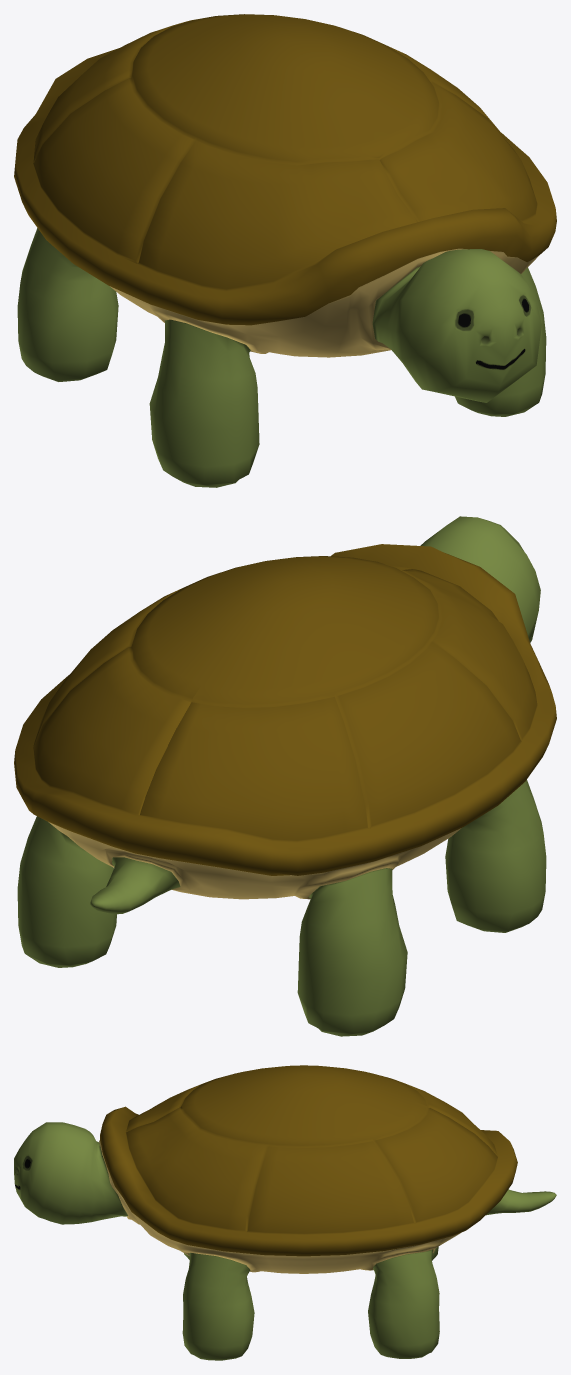
The model's file is turtle.glb.
3 renders of one model, top to bottom at view 1: azimuth 30°, elevation 25°; view 2: azimuth 150°, elevation 25°; view 3: azimuth 270°, elevation 25°, orthographic. The views are drawn at different scales.
Parts seen in each view (by area): view 1: turtle; view 2: turtle; view 3: turtle.
Boxes of the visible parts, <box> form: turtle: <box>14,14,556,487</box>; turtle: <box>14,516,556,1036</box>; turtle: <box>14,1065,556,1360</box>.
Bounding box in the file's own units: 98.23 × 75.42 × 161.
Materials: 1 (1 with a texture image).
